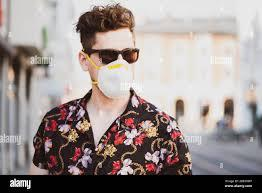mask: (96, 56, 135, 101)
sunglasses: (90, 43, 147, 66)
